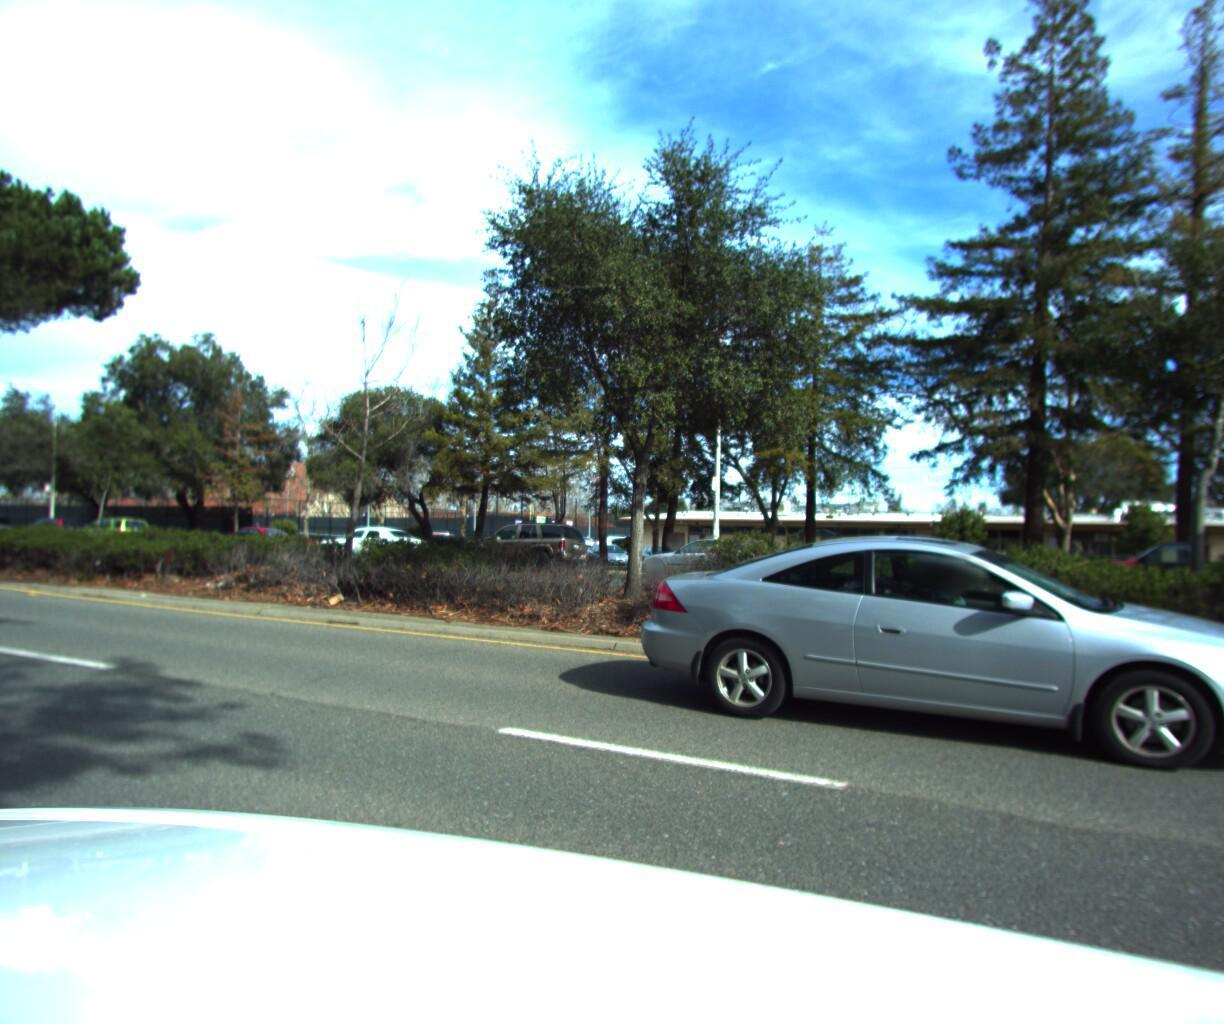car: (623, 510, 1224, 785), (1082, 531, 1224, 614), (777, 534, 961, 598), (632, 528, 781, 583), (455, 515, 593, 564), (311, 517, 438, 564), (205, 520, 312, 561), (65, 513, 157, 548)
